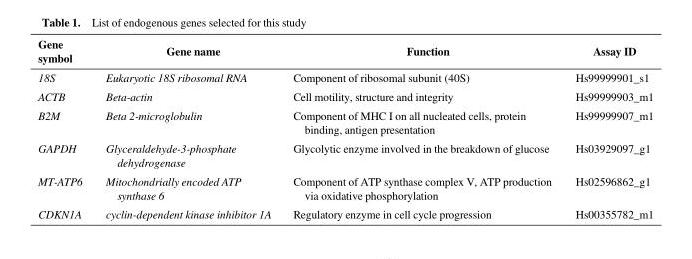table: (37, 36, 652, 219)
table column: (281, 36, 562, 219), (93, 36, 281, 219), (562, 36, 652, 219), (37, 36, 93, 219)
table column header: (37, 36, 652, 67)
table row: (37, 105, 652, 138), (37, 138, 652, 171), (37, 171, 652, 204), (37, 36, 652, 67), (37, 67, 652, 86), (37, 86, 652, 105), (37, 204, 652, 219)
